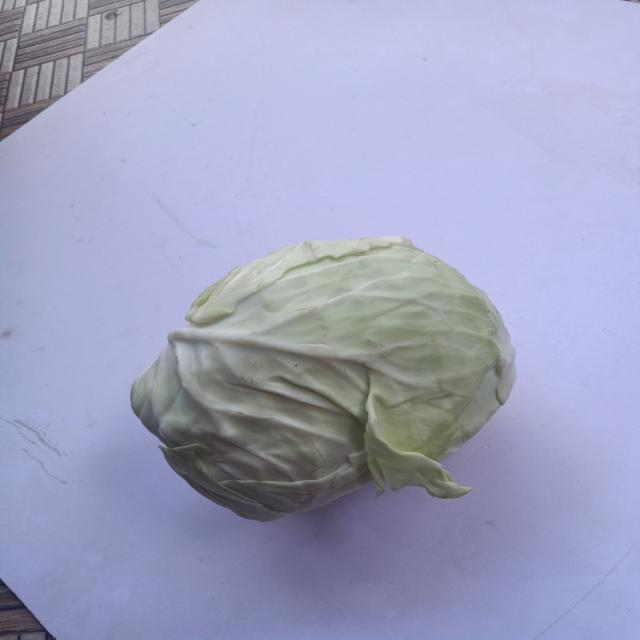Cabbage: (125, 223, 520, 526)
